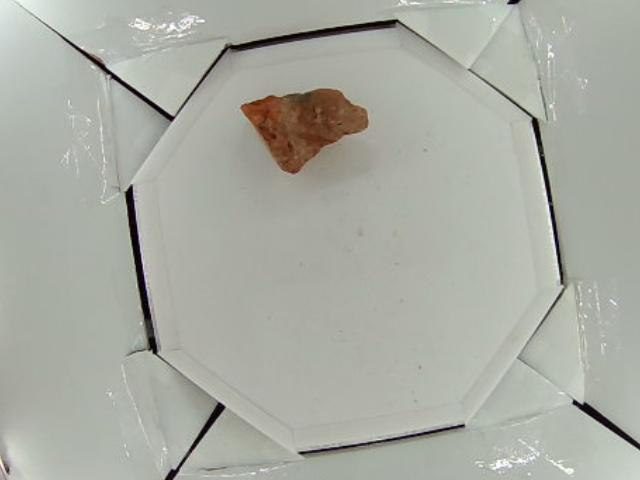Brisk: (239, 89, 368, 171)
